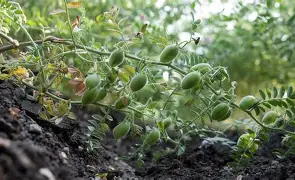crops: (0, 6, 288, 171), (231, 82, 295, 163)
